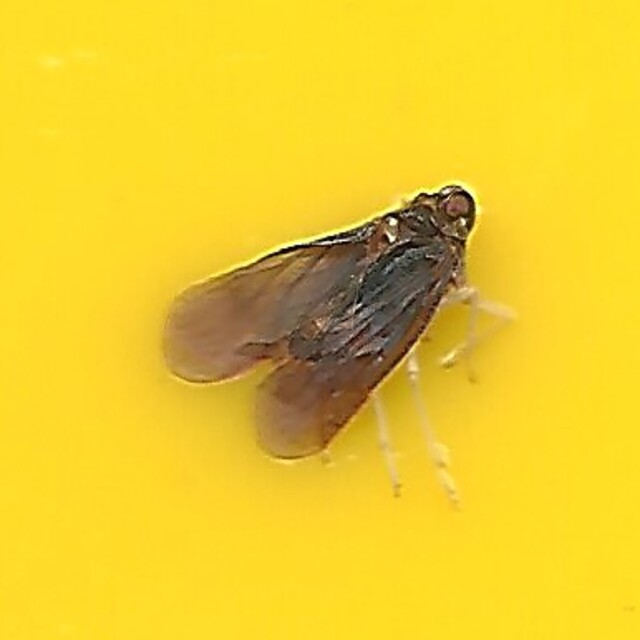Hemiptera: (166, 179, 474, 461)
